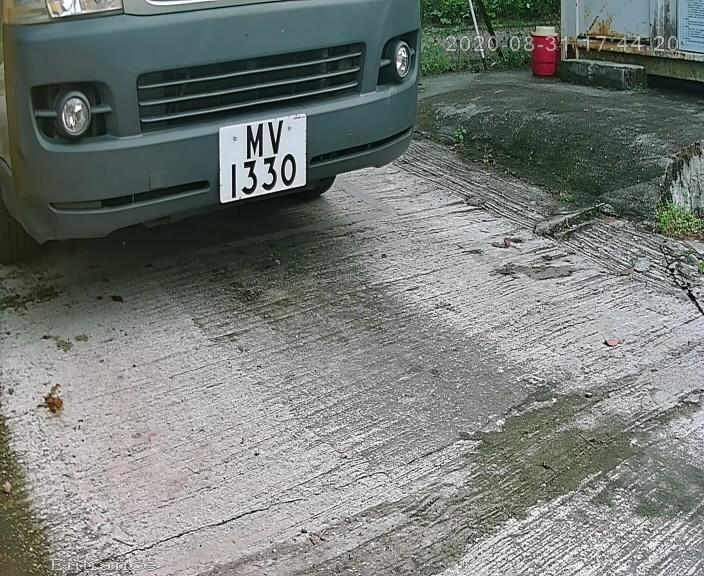Car: (19, 6, 459, 296)
License Plate: (211, 109, 318, 204)
